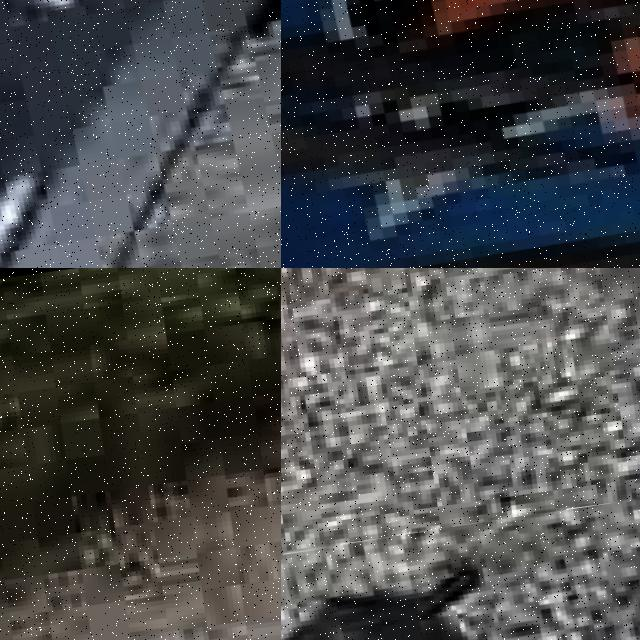drone: (281, 0, 640, 268), (0, 0, 281, 268), (281, 497, 640, 640)
